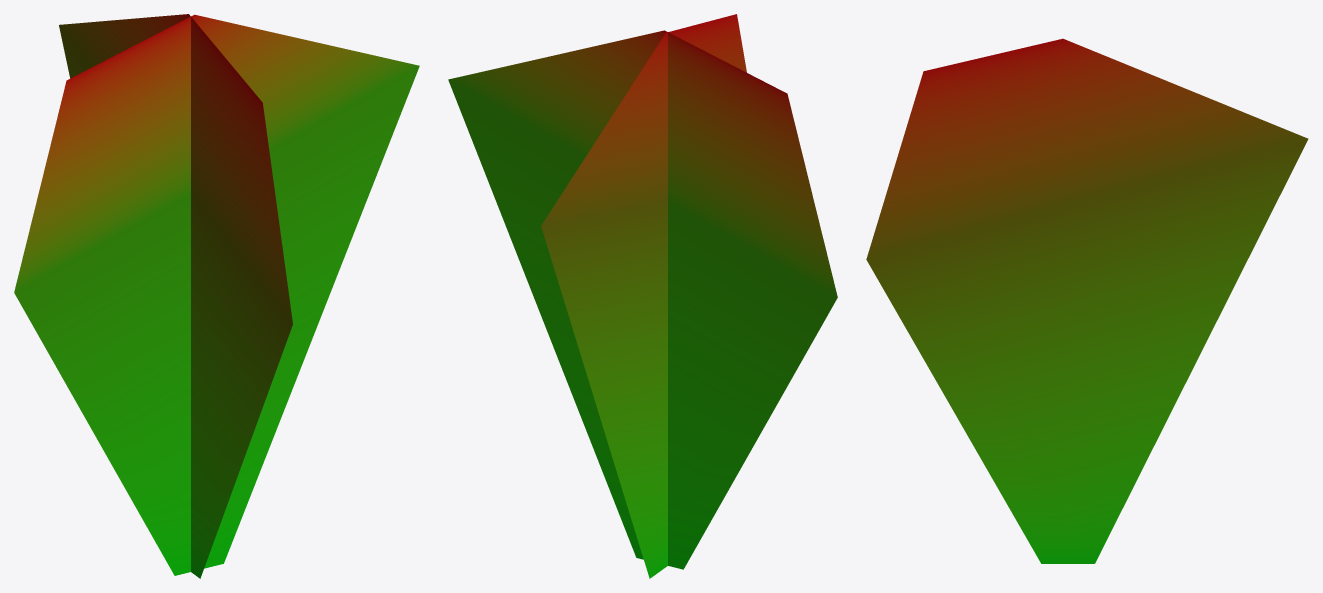
File: Var12_LOD5.fbx
3 views of the same model, side by side, from view 1: azimuth 30°, elevation 25°; view 2: azimuth 150°, elevation 25°; view 3: azimuth 270°, elevation 25° (orthographic). The views are drawn at different scales.
Visible parts, largest first — view 1: _2b1b_Var12_LOD5; view 2: _2b1b_Var12_LOD5; view 3: _2b1b_Var12_LOD5.
Boxes of the visible parts, x1,y1,x2,y2 form: _2b1b_Var12_LOD5: (14,14,419,578); _2b1b_Var12_LOD5: (448,14,837,578); _2b1b_Var12_LOD5: (866,38,1308,563).
Bounding box in the file's own units: 39.87 × 52.26 × 39.87.
